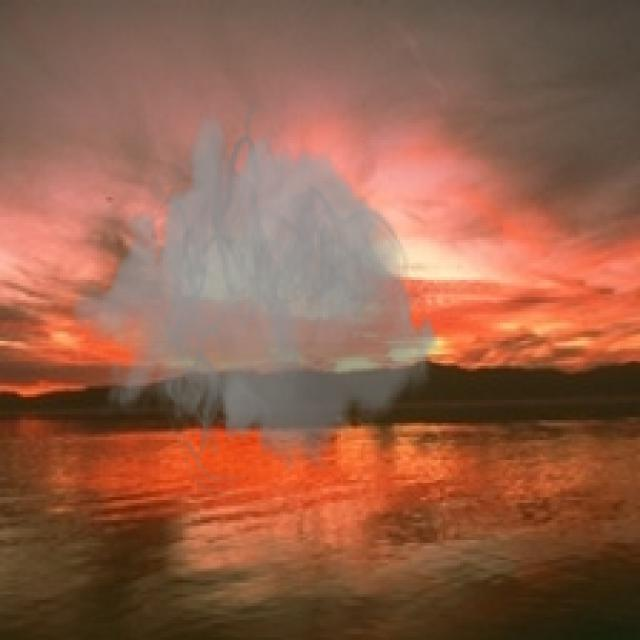Smoke: (68, 97, 440, 503)
